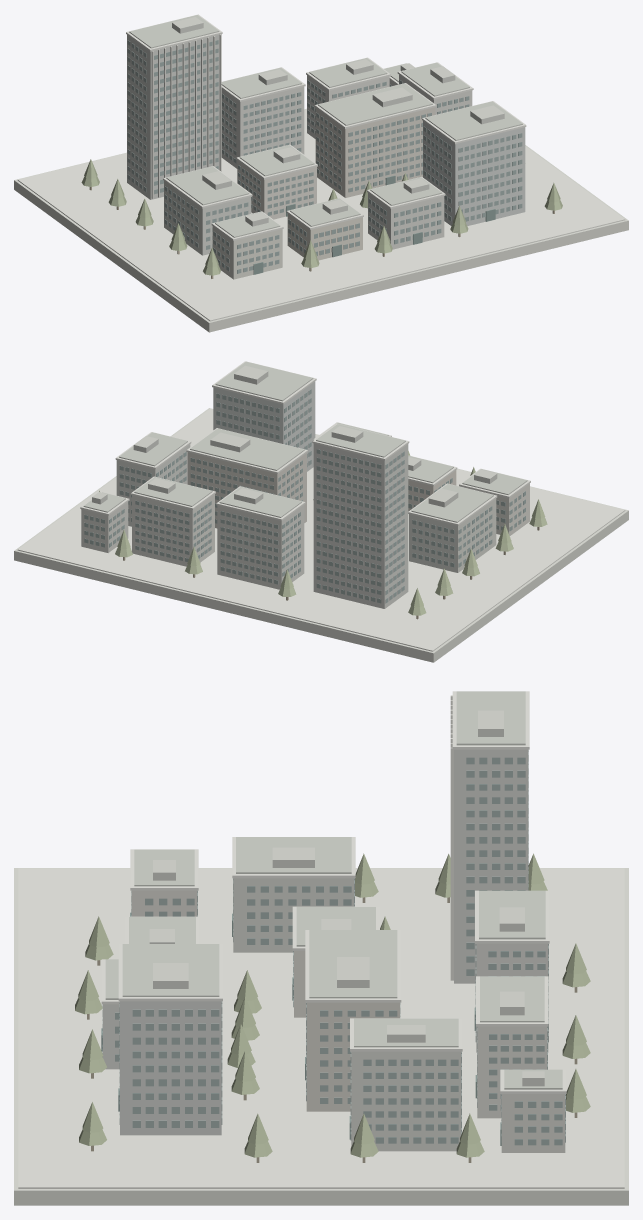
Rendered from nishiwaseda-study.glb.
The picture shows the model from 3 angles, top to bottom: view 1: azimuth 30°, elevation 25°; view 2: azimuth 150°, elevation 25°; view 3: azimuth 270°, elevation 25°; orthographic projection. The views are drawn at different scales.
Parts seen in each view (by area): view 1: Campus pavement, Building 51, Campus plinth, Building 63, Building 55, Windows 51, Building 52, Windows 63, Windows 55, Building 62, Building 57, Building 56 (+28 smaller); view 2: Campus pavement, Building 51, Campus plinth, Windows 51, Building 52, Building 63, Building 53, Building 57, Building 55, Windows 52, Rooftop 55, Windows 53 (+24 smaller); view 3: Campus pavement, Campus plinth, Building 63, Building 51, Building 54, Rooftop 55, Building 57, Building 55, Windows 63, Rooftop 63, Windows 51, Windows 54 (+34 smaller).
Boxes of the visible parts, bbox=[...] form: Campus pavement: bbox=[17, 109, 625, 321]; Building 51: bbox=[127, 34, 221, 199]; Campus plinth: bbox=[14, 108, 628, 332]; Building 63: bbox=[423, 121, 525, 225]; Building 55: bbox=[315, 107, 435, 197]; Windows 51: bbox=[127, 40, 218, 194]; Building 52: bbox=[221, 86, 304, 168]; Windows 63: bbox=[423, 126, 522, 221]; Windows 55: bbox=[316, 112, 431, 192]; Building 62: bbox=[368, 193, 444, 249]; Building 57: bbox=[164, 181, 251, 255]; Building 56: bbox=[237, 160, 316, 219]; Campus pavement: bbox=[17, 408, 625, 651]; Building 51: bbox=[313, 443, 408, 608]; Campus plinth: bbox=[14, 408, 628, 662]; Windows 51: bbox=[316, 449, 404, 603]; Building 52: bbox=[217, 505, 304, 589]; Building 63: bbox=[213, 381, 315, 471]; Building 53: bbox=[132, 494, 214, 566]; Building 57: bbox=[409, 498, 496, 572]; Building 55: bbox=[187, 452, 306, 528]; Windows 52: bbox=[220, 511, 300, 584]; Rooftop 55: bbox=[190, 428, 304, 470]; Windows 53: bbox=[135, 500, 211, 561]; Campus pavement: bbox=[18, 868, 624, 1188]; Campus plinth: bbox=[14, 868, 628, 1205]; Building 63: bbox=[120, 1001, 221, 1135]; Building 51: bbox=[454, 749, 528, 983]; Building 54: bbox=[351, 1051, 461, 1151]; Rooftop 55: bbox=[309, 930, 397, 998]; Building 57: bbox=[233, 878, 354, 952]; Building 55: bbox=[306, 1002, 399, 1111]; Windows 63: bbox=[119, 1001, 222, 1127]; Rooftop 63: bbox=[122, 944, 219, 996]; Windows 51: bbox=[466, 750, 528, 975]; Windows 54: bbox=[350, 1051, 461, 1143].
Bounding box in the file's own units: 36 × 13.7 × 29.
